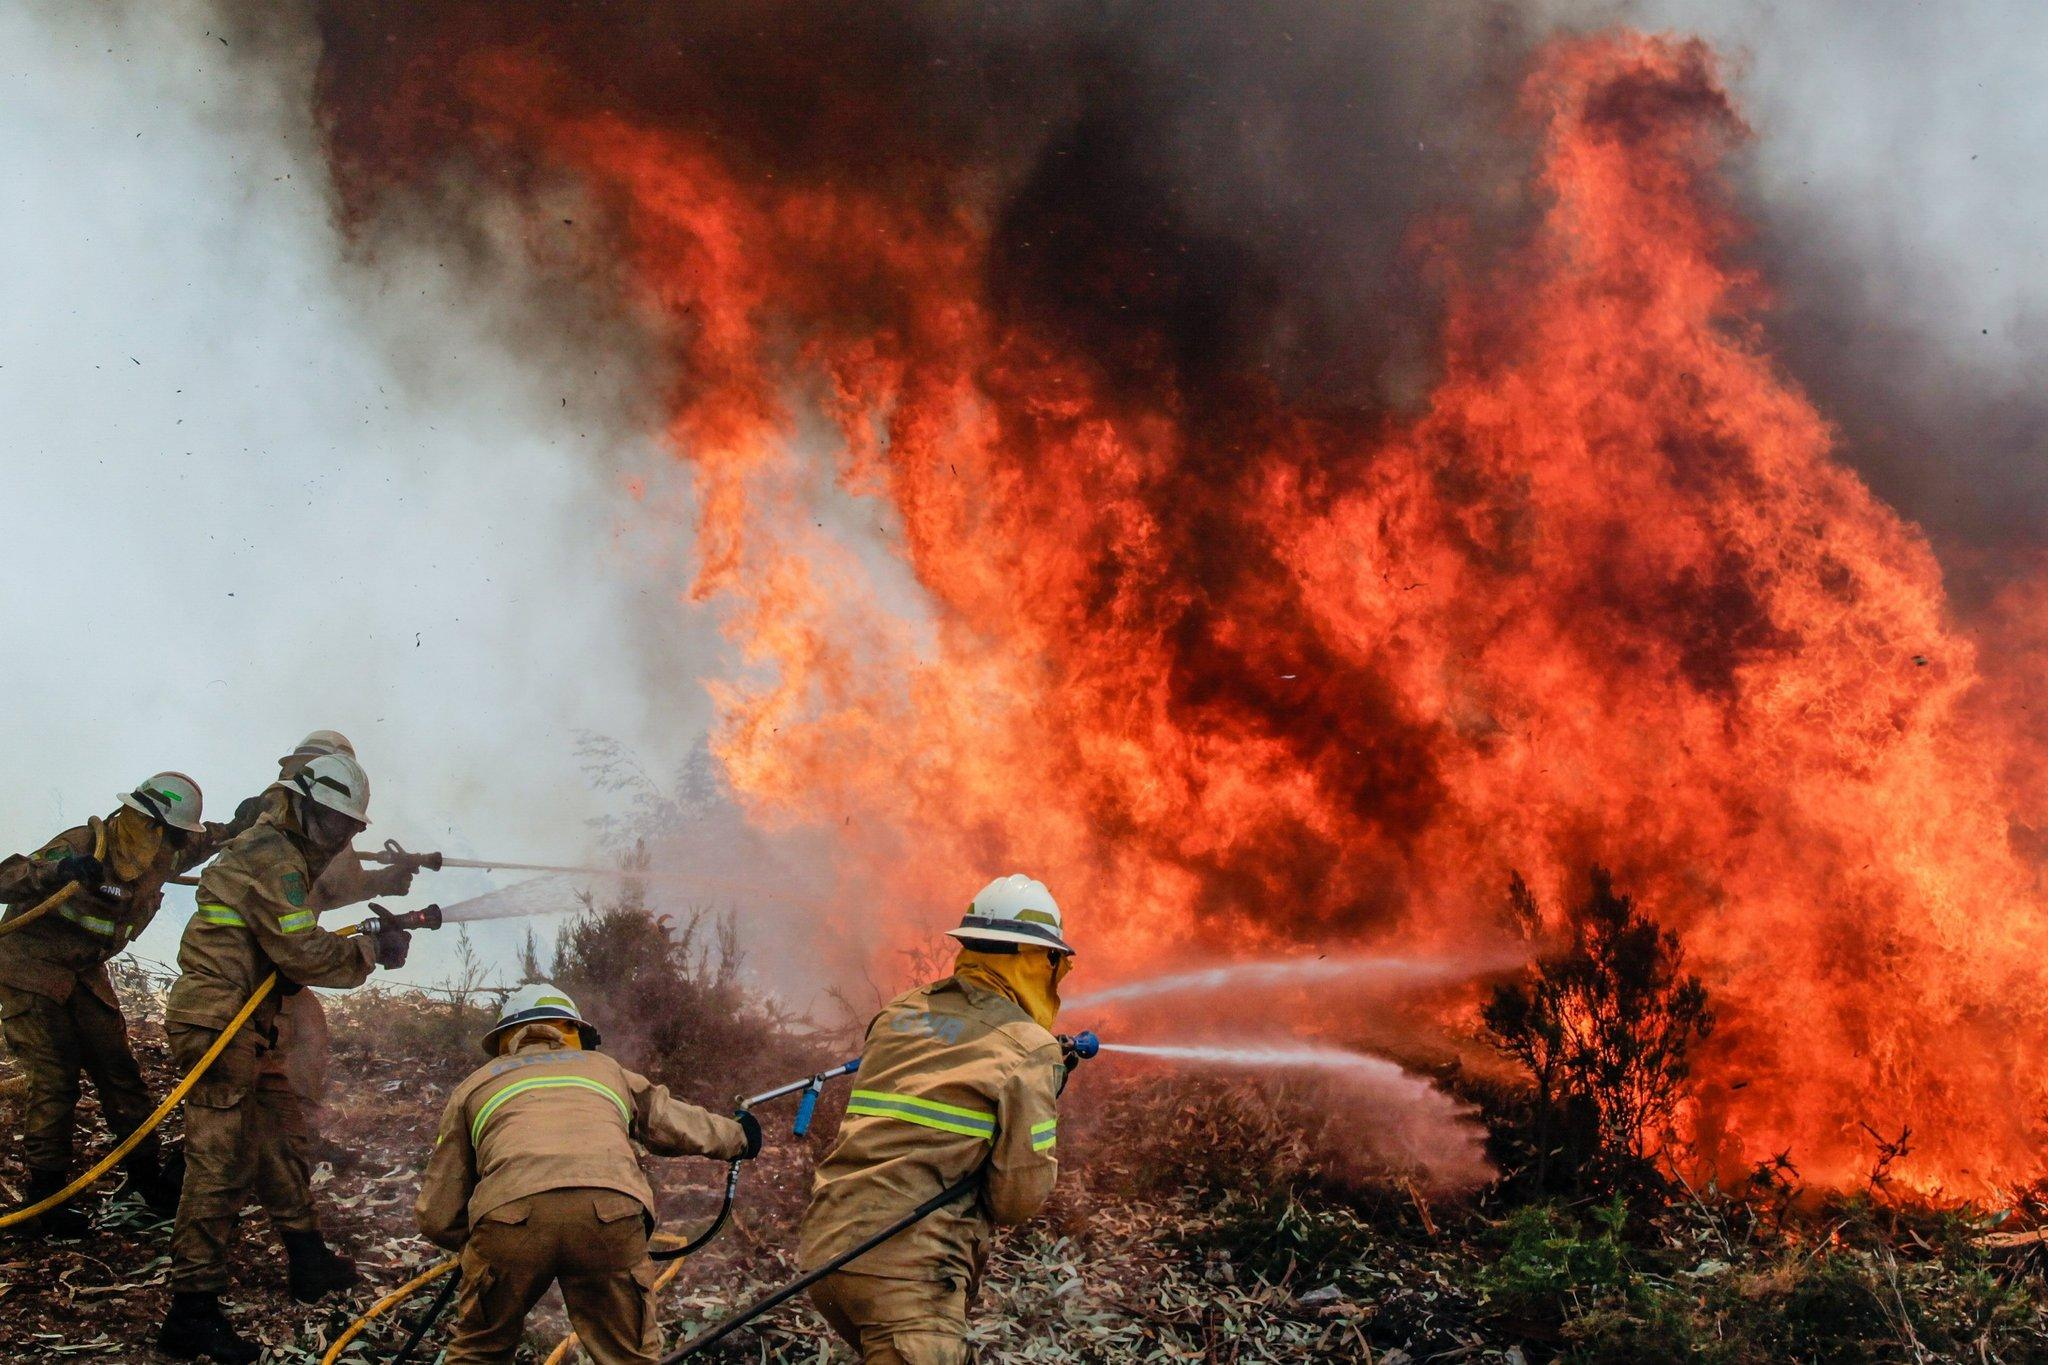fire: (590, 3, 2048, 1299)
